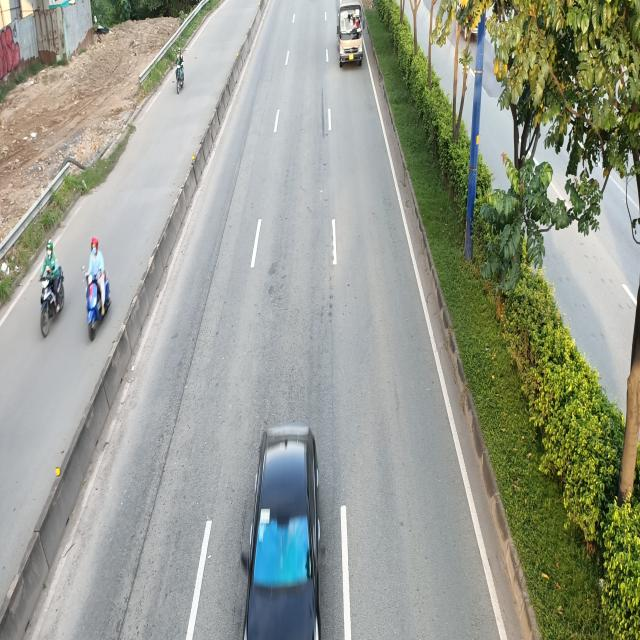car: (240, 420, 331, 635)
coach: (336, 1, 368, 70)
